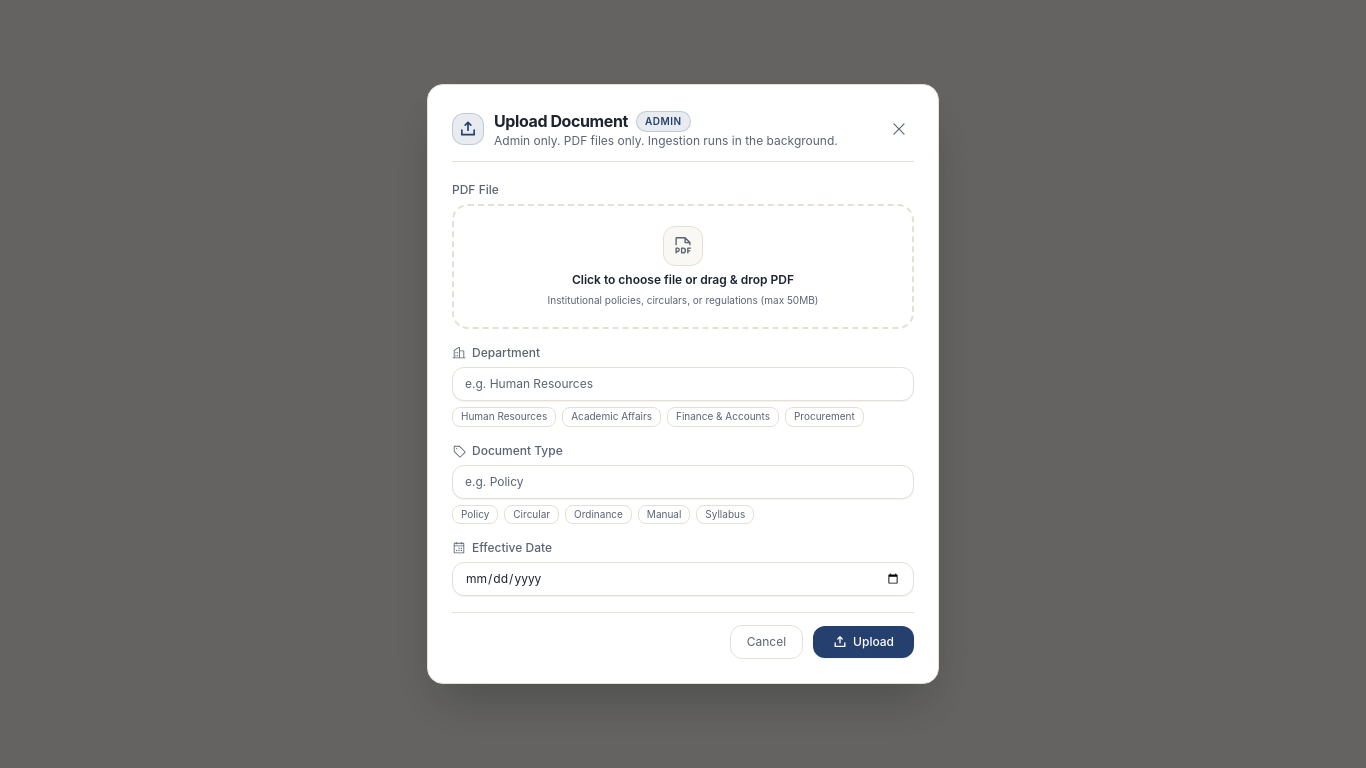
UploadPage.tsx › requires PDF file, department, and doc_type before submitting
Click the button "Upload" at (864, 642), box x1=813 y1=626 x2=914 y2=658
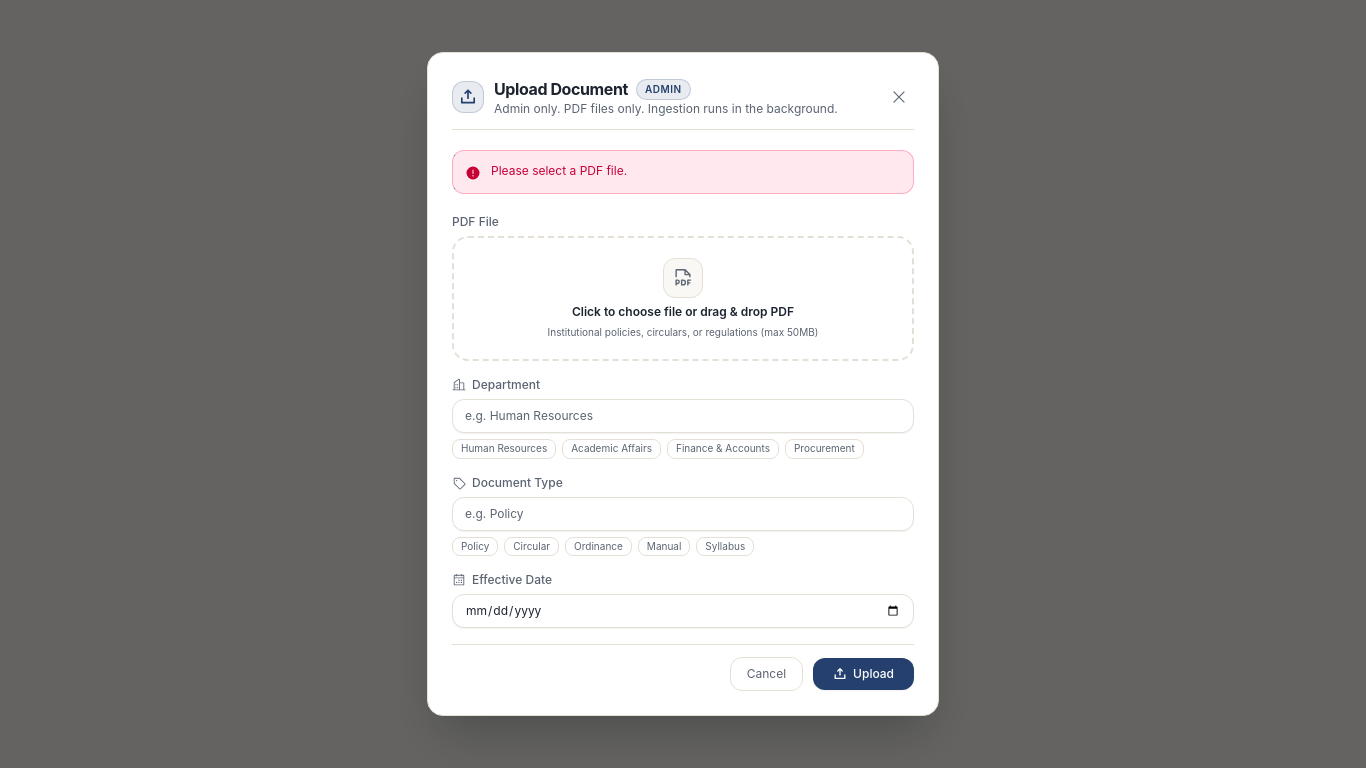
Result: the text "Please select a PDF file." is shown at x1=491 y1=163 x2=627 y2=180
